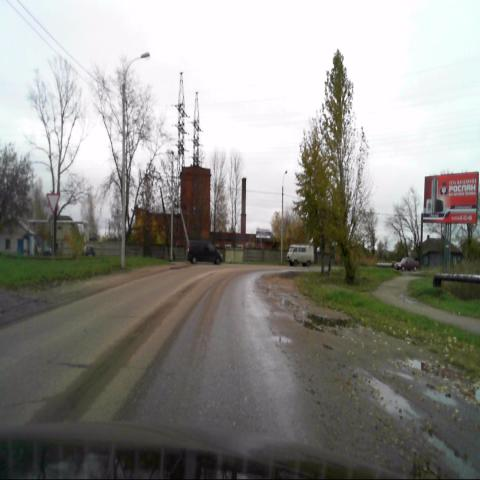2_4: (46, 193, 60, 215)
